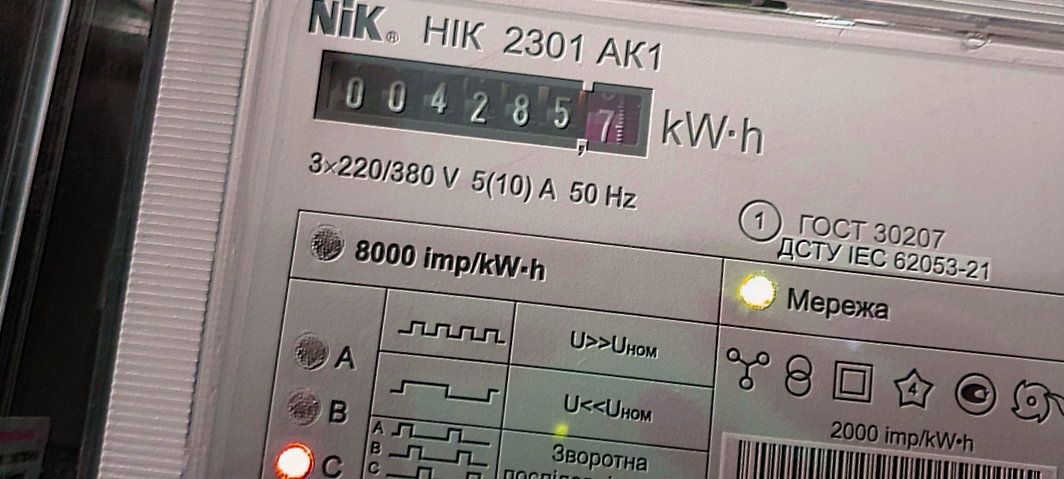0: (384, 76, 411, 115), (342, 73, 368, 111)
2: (467, 87, 491, 125)
4: (429, 78, 450, 115)
5: (549, 92, 574, 130)
7: (592, 106, 617, 144)
8: (508, 90, 534, 129)
screen: (296, 31, 672, 178)
